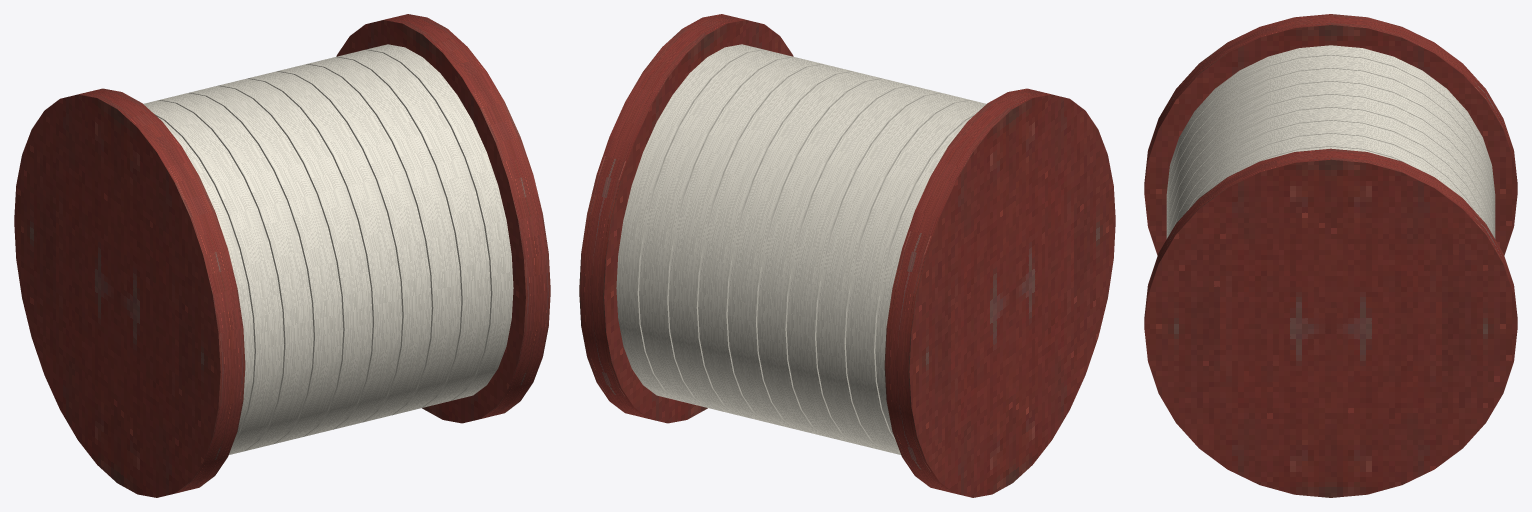
File: toilet-roll.glb
3 views of the same model, side by side, from view 1: azimuth 30°, elevation 25°; view 2: azimuth 150°, elevation 25°; view 3: azimuth 270°, elevation 25° (orthographic). The views are drawn at different scales.
Parts seen in each view (by area): view 1: wrap (×10), cheek (×2); view 2: wrap (×10), cheek (×2); view 3: cheek (×2), wrap (×8).
Boxes of the visible parts, x1,y1,x2,y2 form: wrap (×10): (143,44,513,454); cheek (×2): (14,14,550,497); wrap (×10): (616,44,986,454); cheek (×2): (579,14,1115,497); cheek (×2): (1144,14,1517,497); wrap (×8): (1166,45,1495,238).
Bounding box in the file's own units: 0.1293 × 0.14 × 0.14.
2 materials, 2 textured.
